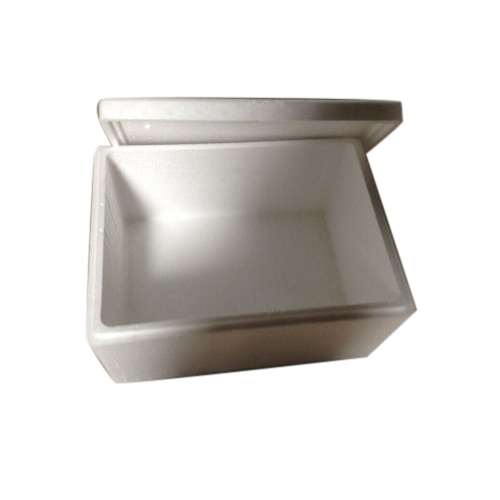Foam Box: (74, 90, 420, 386)
